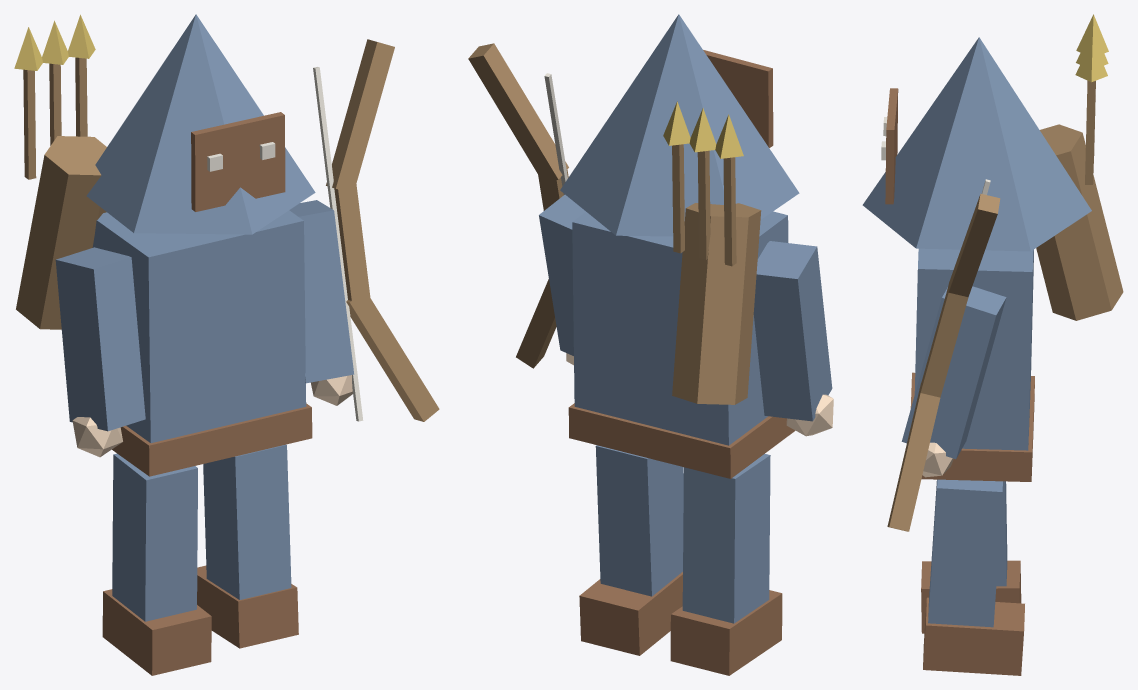
Rendered from npcpose_archer_idle_09.glb.
3 renders of one model, left to right at view 1: azimuth 30°, elevation 25°; view 2: azimuth 150°, elevation 25°; view 3: azimuth 270°, elevation 25°, orthographic. The views are drawn at different scales.
Visible parts, largest first — view 1: npcpose; view 2: npcpose; view 3: npcpose.
Boxes of the visible parts, bbox=[...] form: npcpose: bbox=[14, 14, 439, 675]; npcpose: bbox=[468, 14, 833, 675]; npcpose: bbox=[862, 14, 1123, 675].
Size of the model in its own units: 0.911 by 1.62 by 0.6361.
